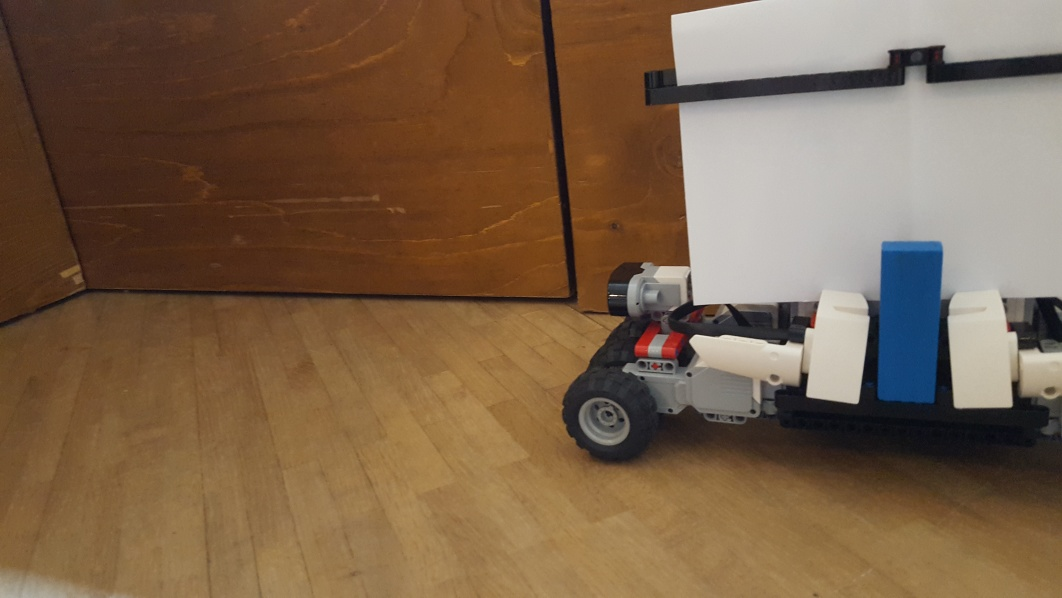beam: (879, 237, 940, 405)
